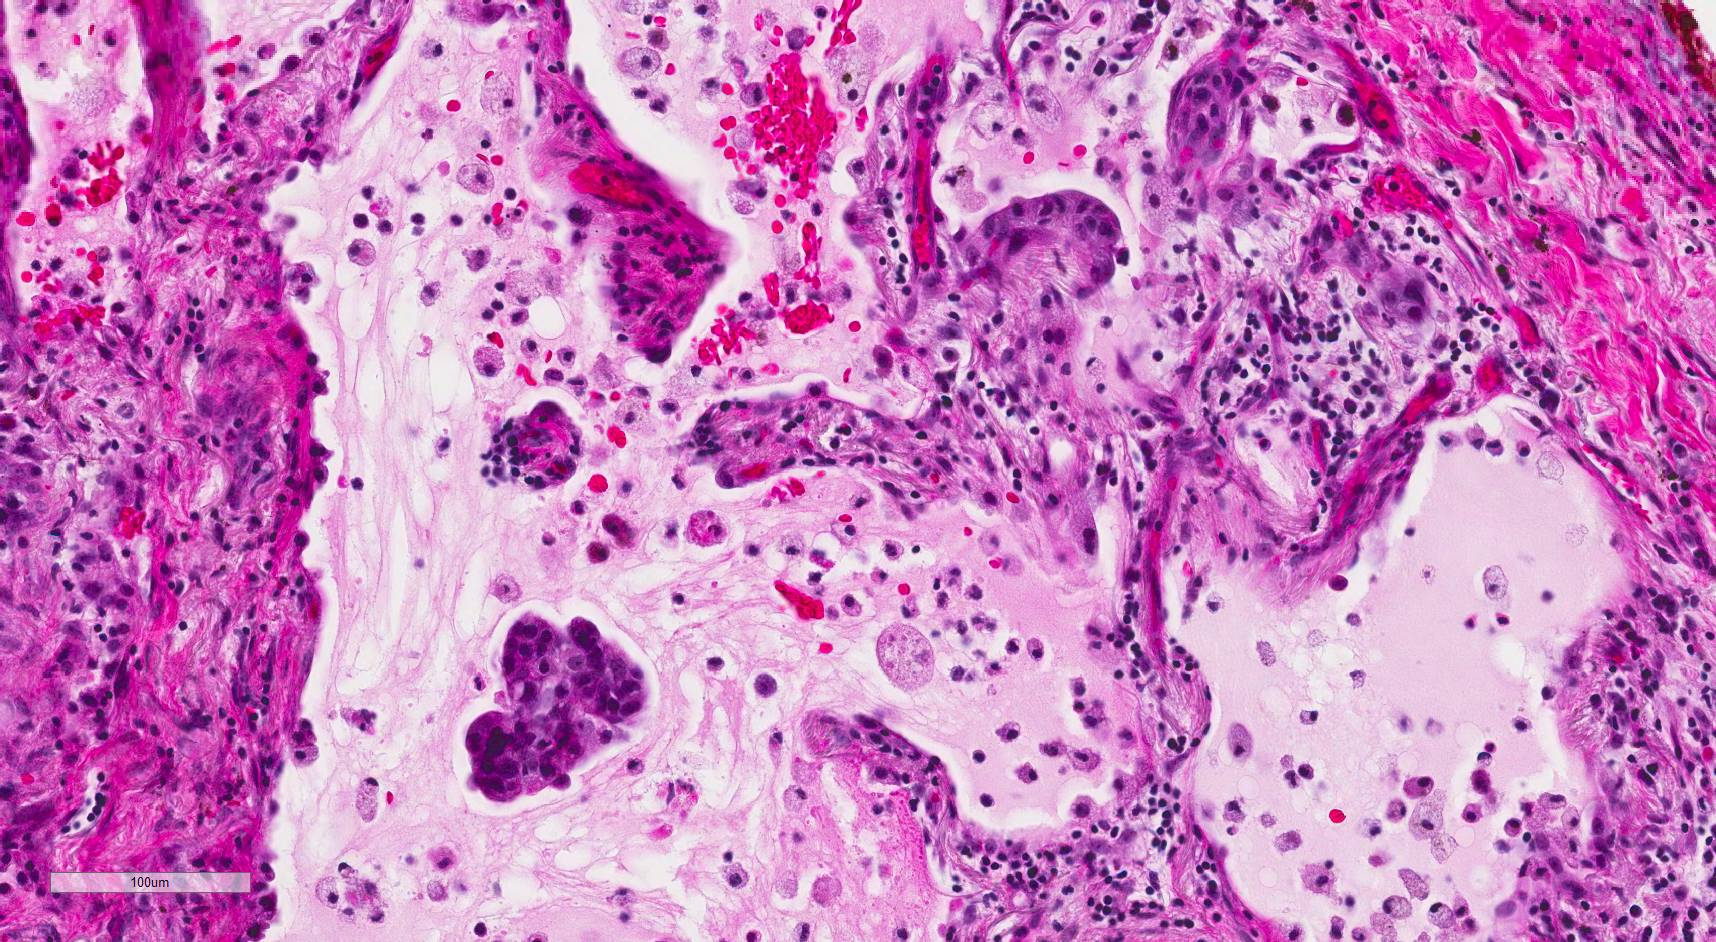stas: (463, 611, 650, 807)
